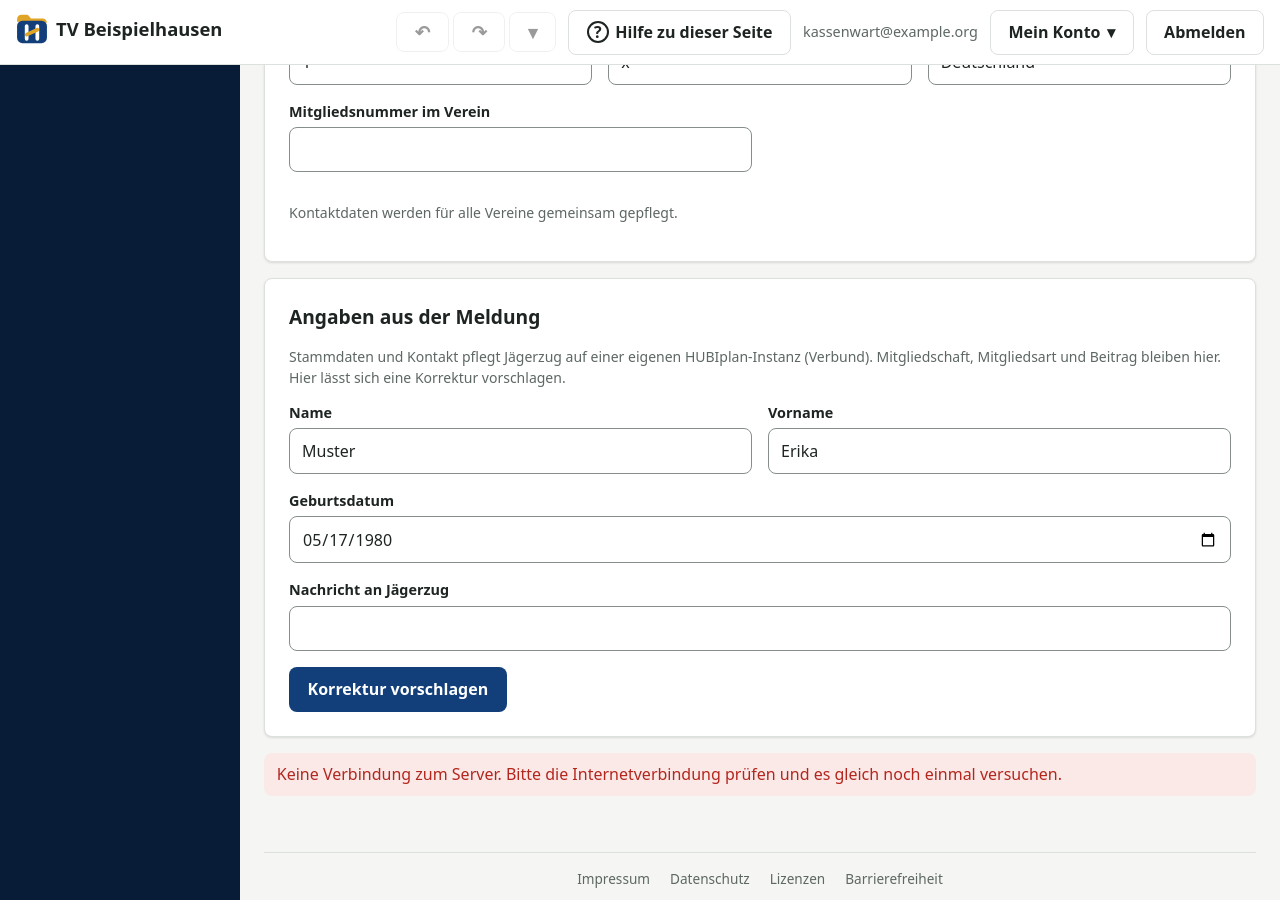
it: Mitgliedsakte › fern geführt: Stammdaten gesperrt, Korrektur vorschlagen
(page scrolled)
expect the text "pflegt Jägerzug auf einer eigenen HUBIplan-Instanz" is shown: met, box left=289, top=347, right=1221, bottom=387
Replace the text in the field labelled "Vorname" with "Erica" at (1000, 451), box left=768, top=428, right=1231, bottom=474
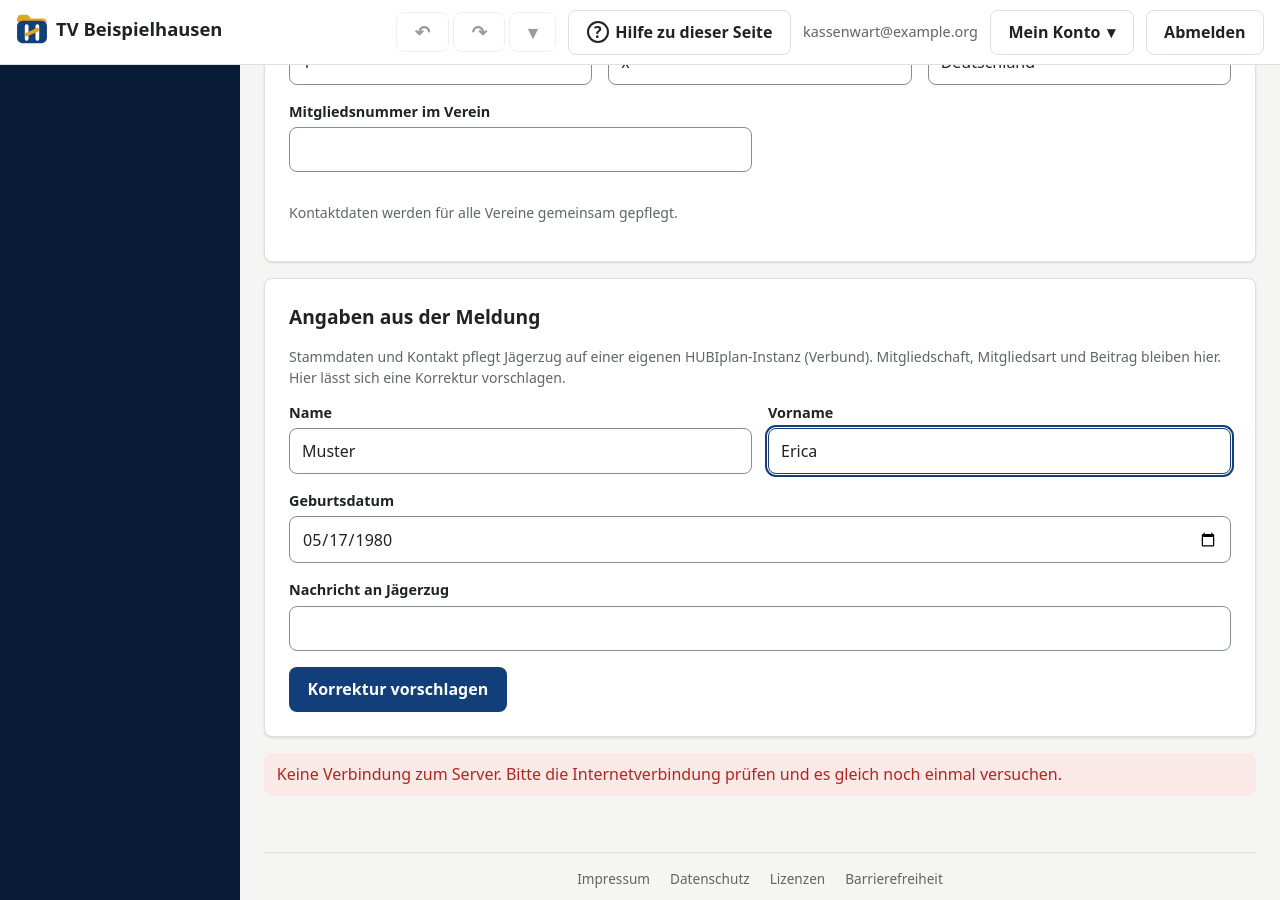
Click the button "Korrektur vorschlagen".
click(398, 689)  # box left=289, top=667, right=507, bottom=712
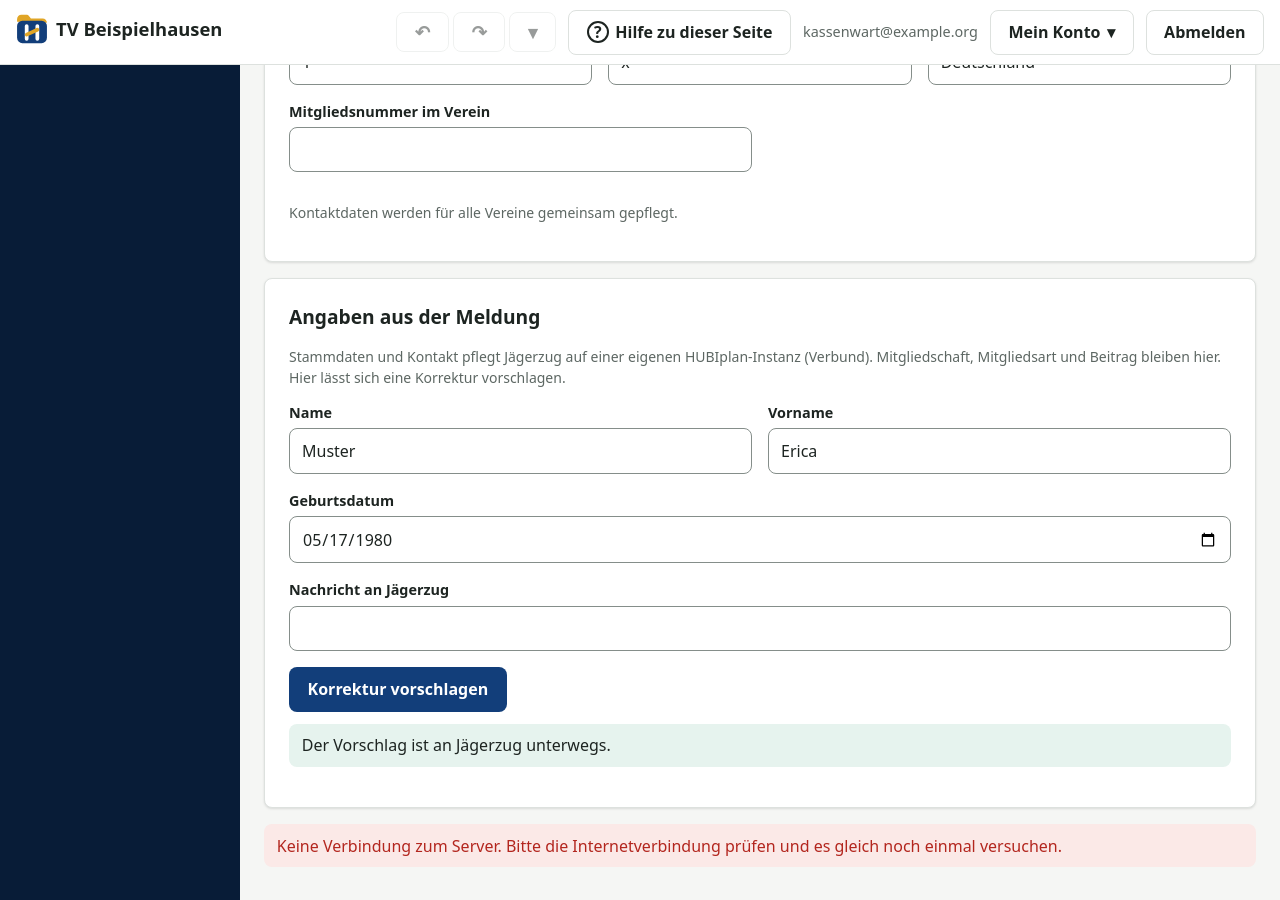
expect the text "Der Vorschlag ist an Jägerzug unterwegs." is shown: met, box left=289, top=724, right=1231, bottom=767
